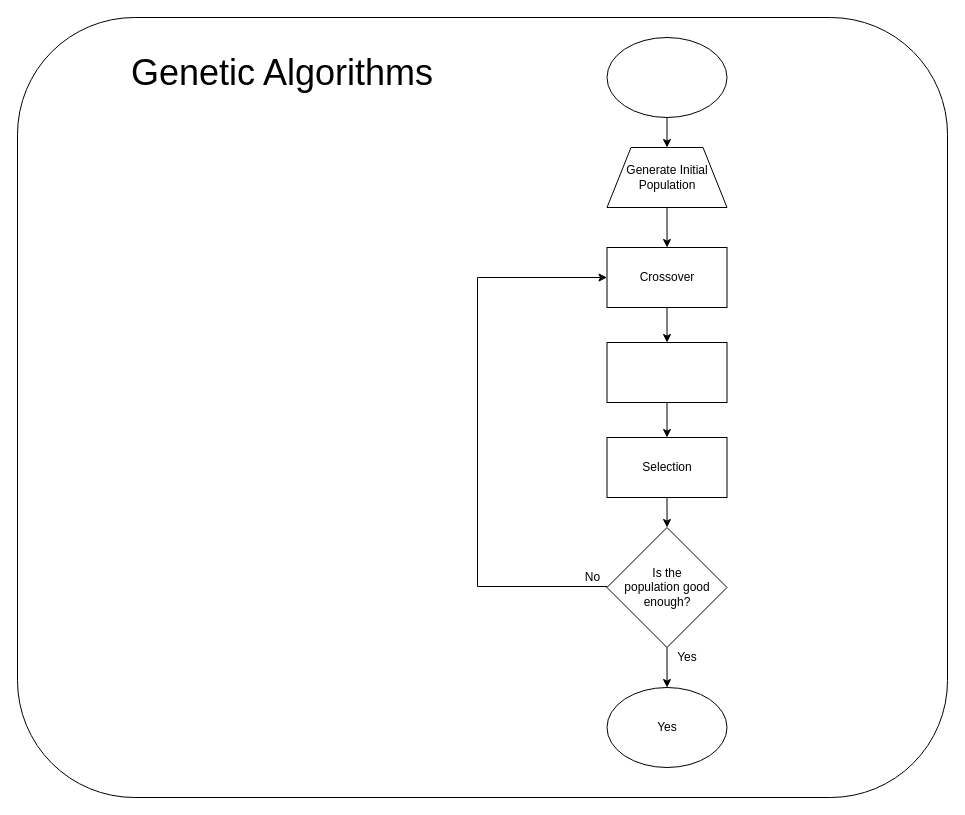
This 965x815 diagram has some shape labels left out. The shapes that lost their labels are listed below. From the top down, each one's centre as x and y in pixels, then its label:
At point (666, 77): "Start".
At point (666, 372): "Mutation".
